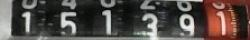digits: (178, 13, 194, 37), (61, 13, 77, 36), (144, 14, 158, 38), (20, 12, 32, 36), (216, 10, 226, 37), (102, 9, 110, 37)
